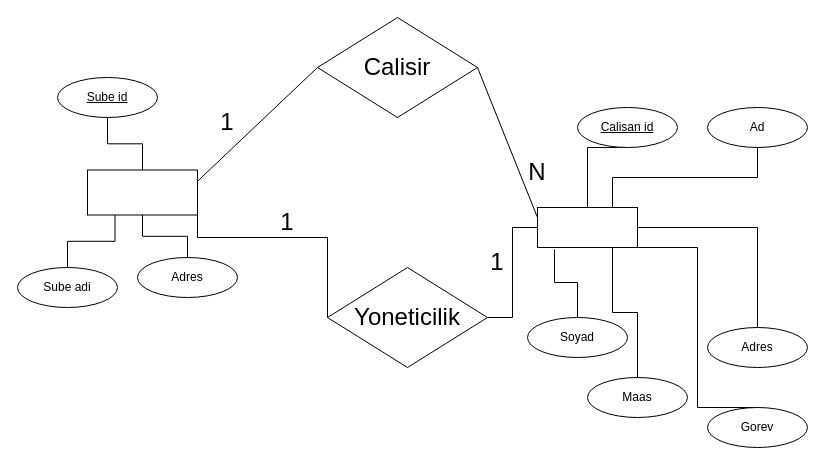
Some shapes in this 825 by 465 pixel diagram are drawn without their labels. Each missing label, with the box of its shape:
CALISAN: (536, 206, 638, 248)
Sube: (86, 169, 198, 215)
